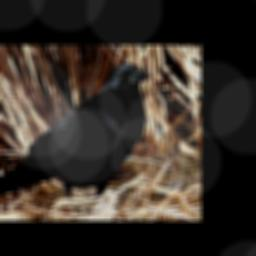Crow: (0, 62, 153, 199)
